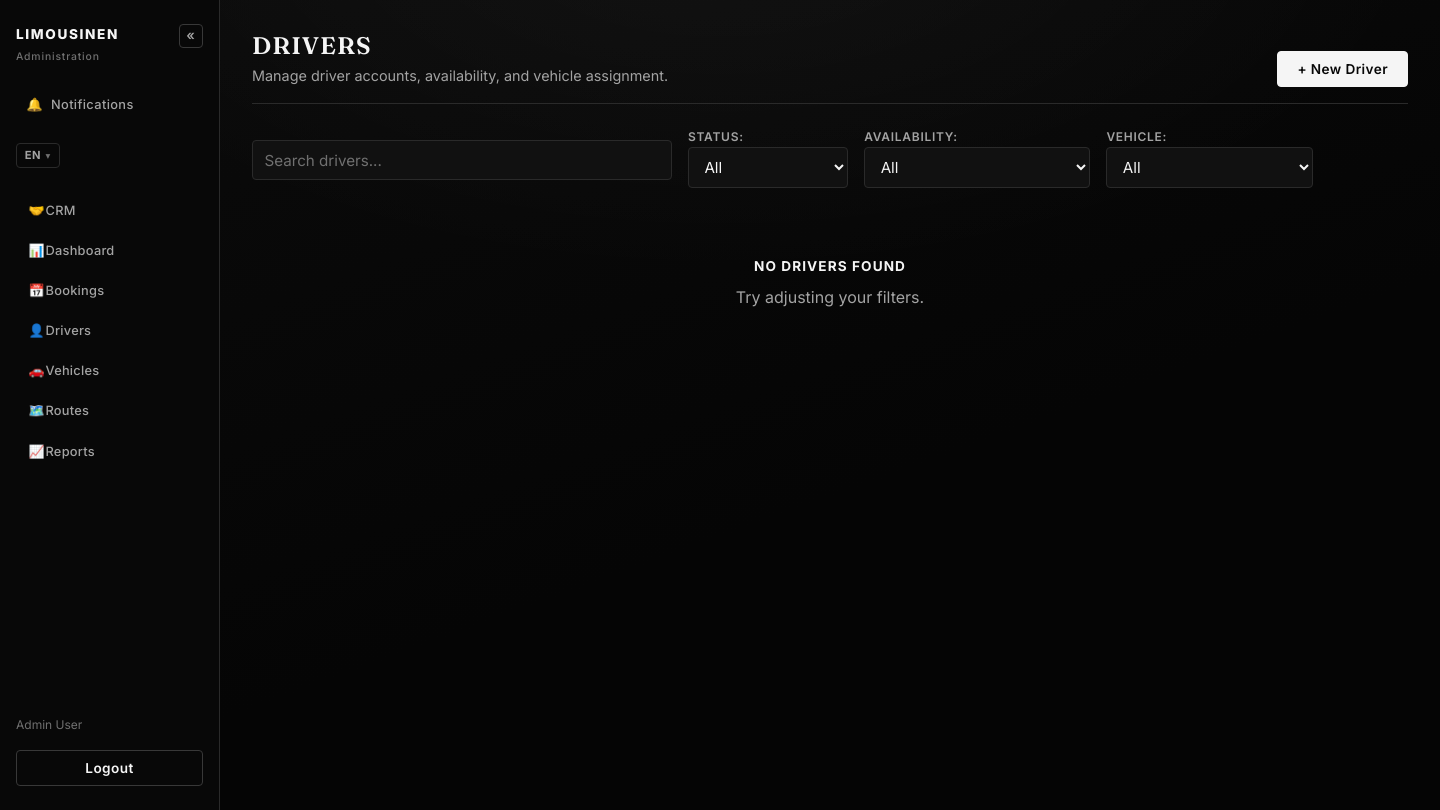
DriversPage › shows the backend's vehicle-conflict error inside the form
Expected: the text "No Drivers Found" is shown, [754,258,906,274]
Click the button "+ New Driver" at (1343, 69), box [1278,52,1408,87]
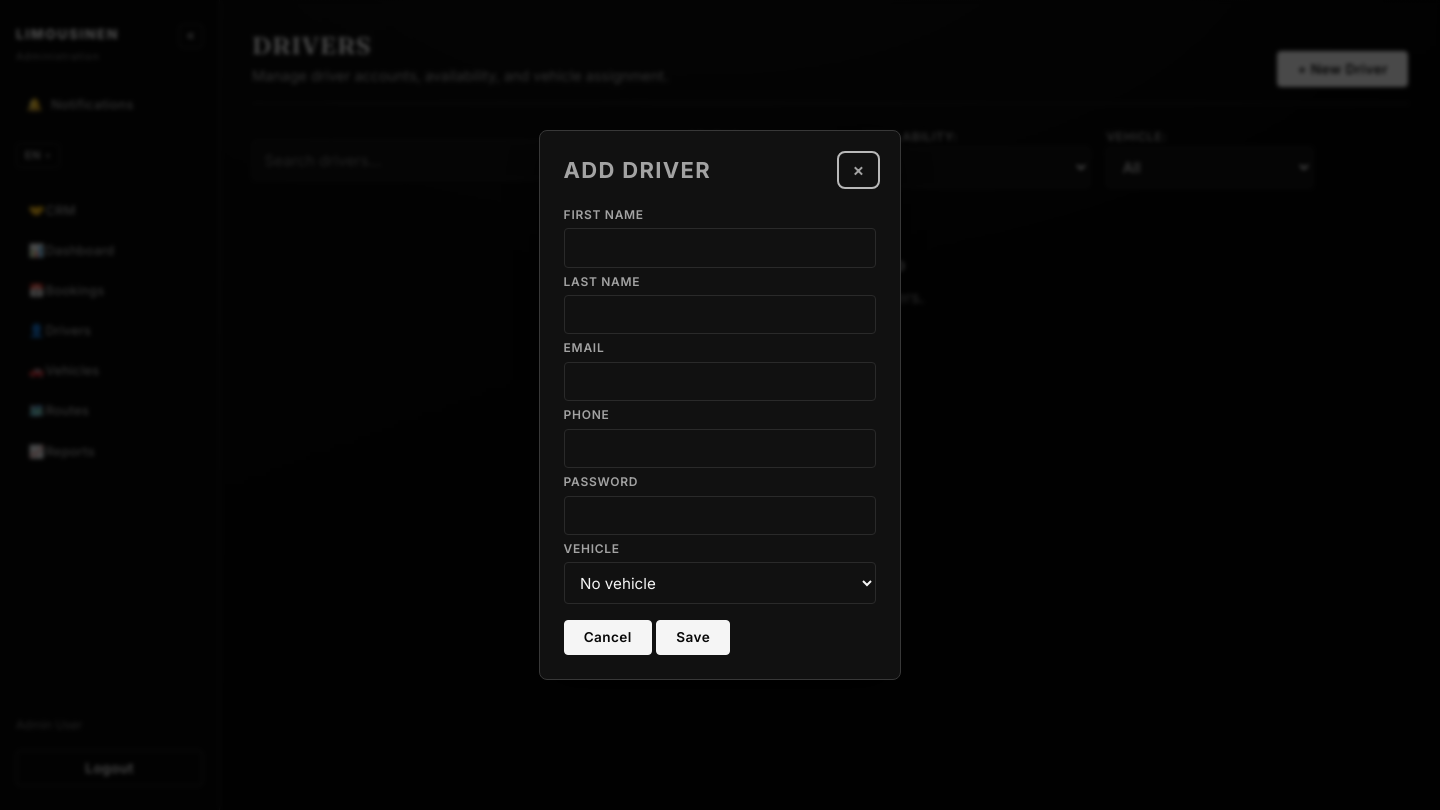
Type "John" into the field labelled "First name" at (720, 248), box [564,228,876,268]
Type "Smith" into the field labelled "Last name" at (720, 315), box [564,295,876,334]
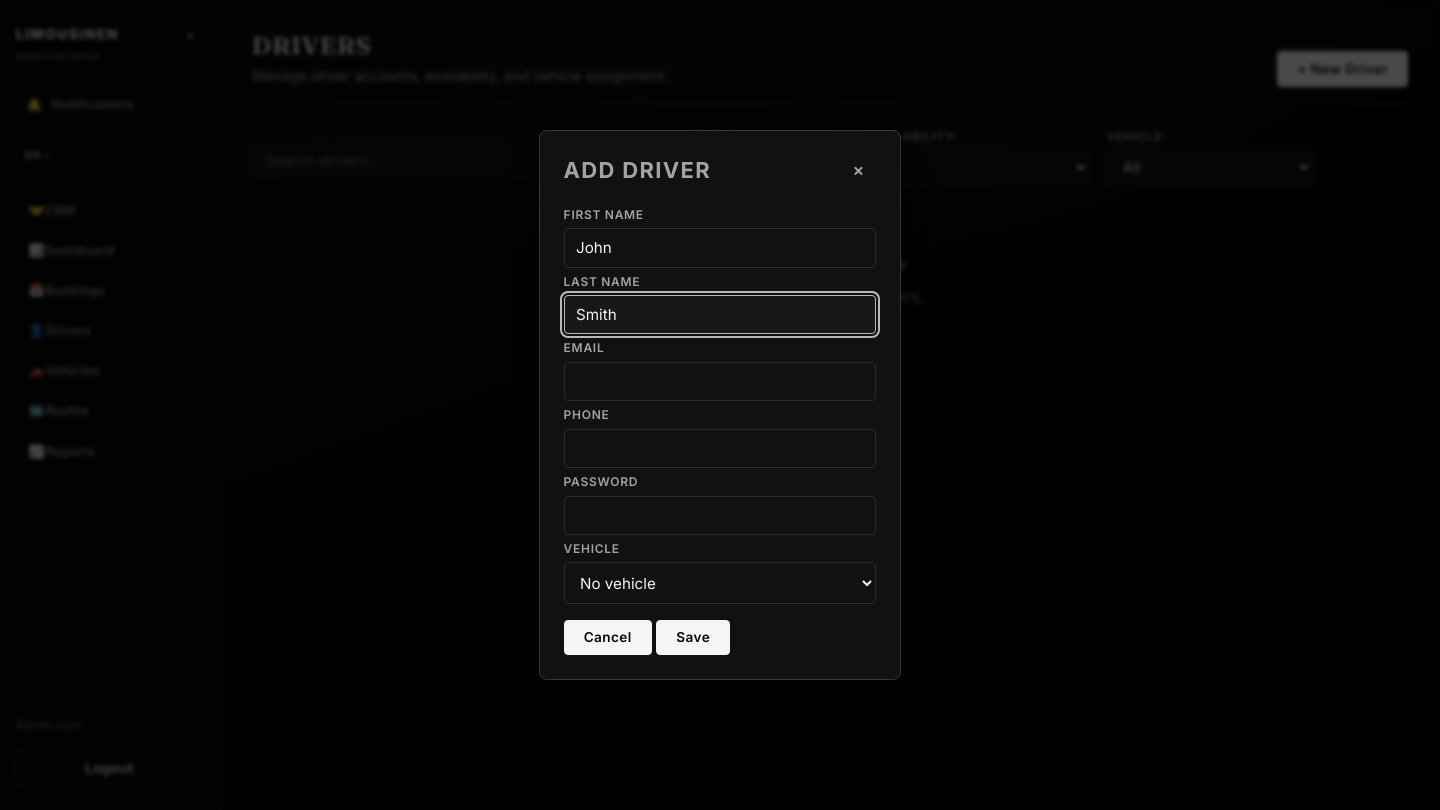
Type "john.smith@example.com" into the field labelled "Email" at (720, 382), box [564,362,876,401]
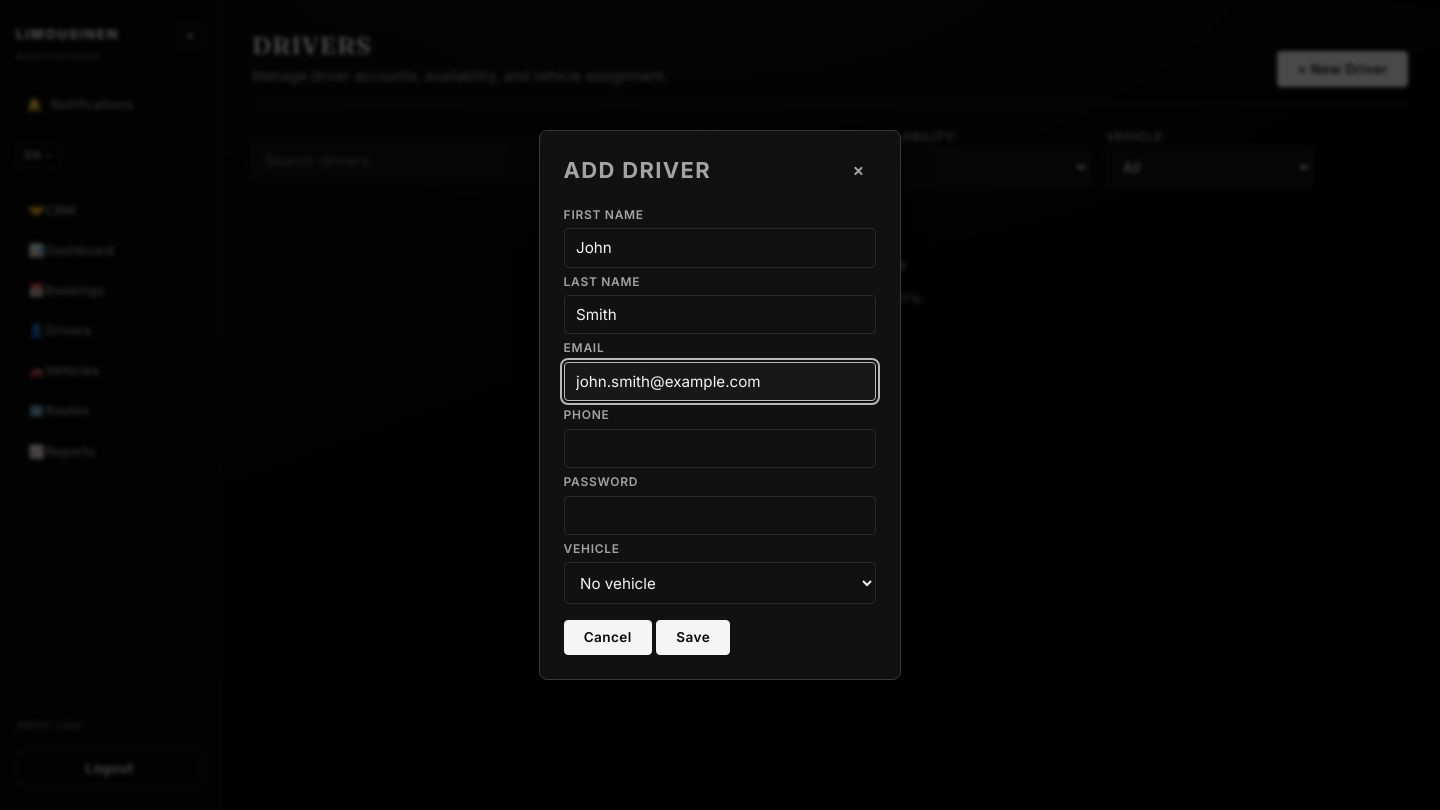
Type "+41791234567" into the field labelled "Phone" at (720, 448), box [564,429,876,468]
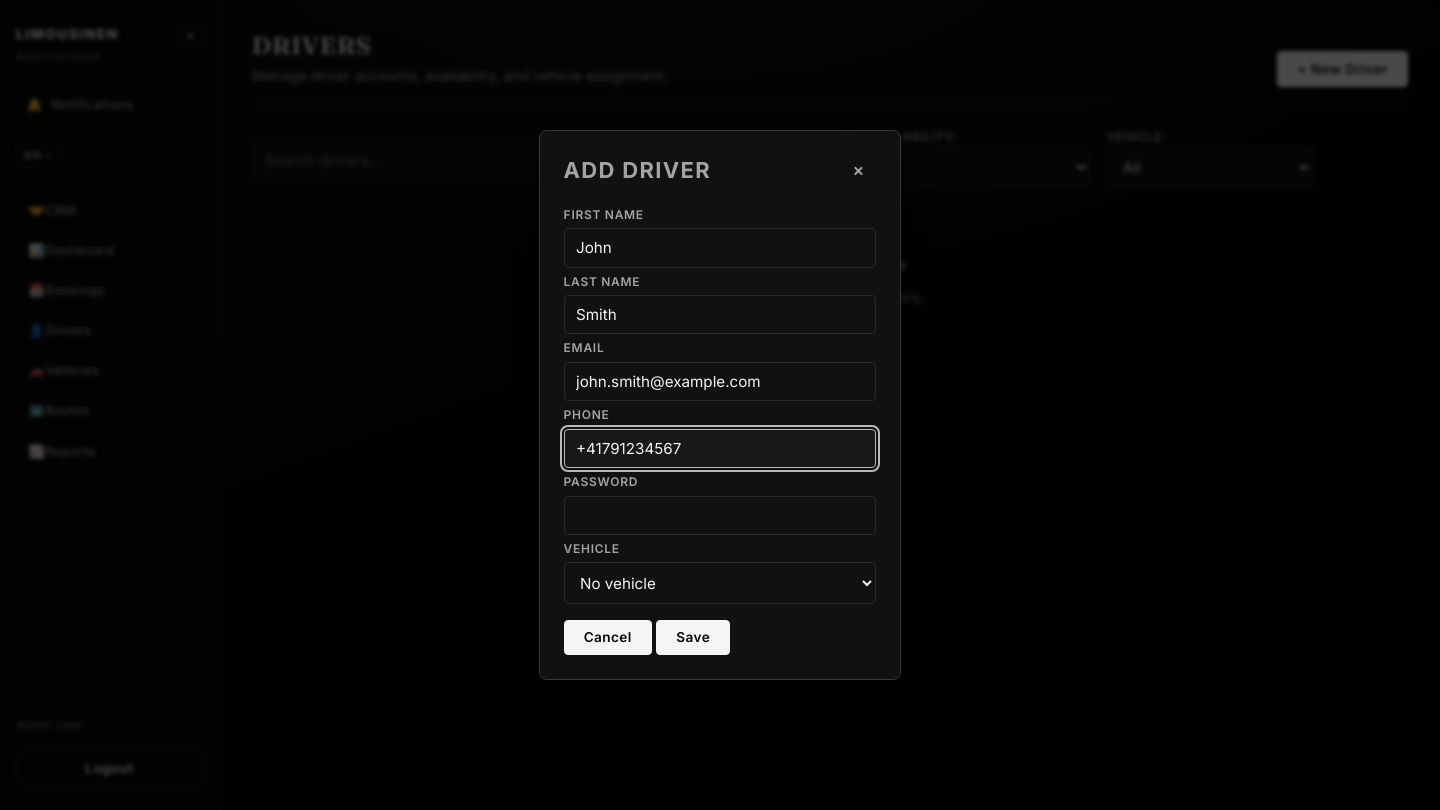
Type "Test#Passw0rd!" into the password field labelled "Password" at (720, 515), box [564,496,876,535]
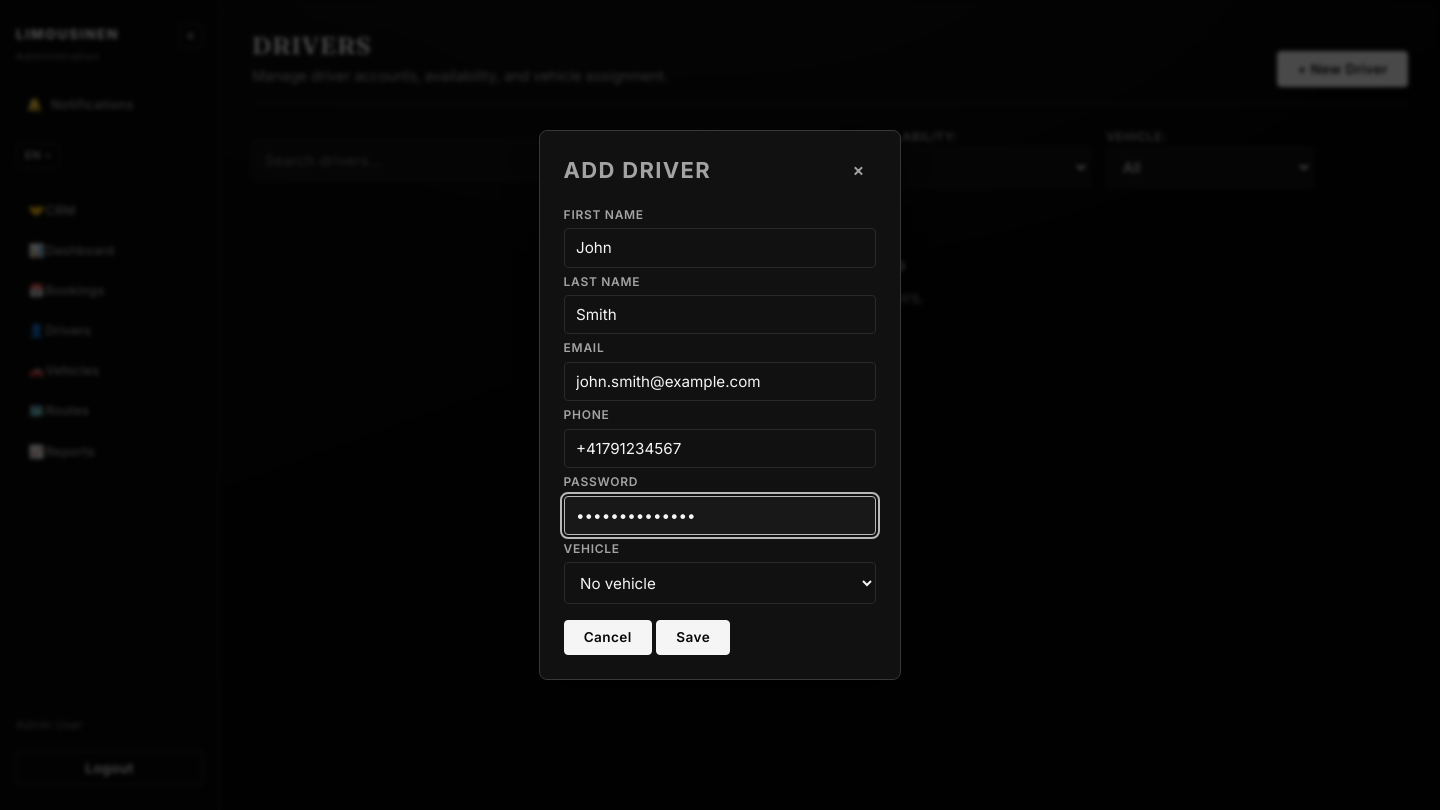
Click the button "Save" at (693, 637), box [656,620,730,655]
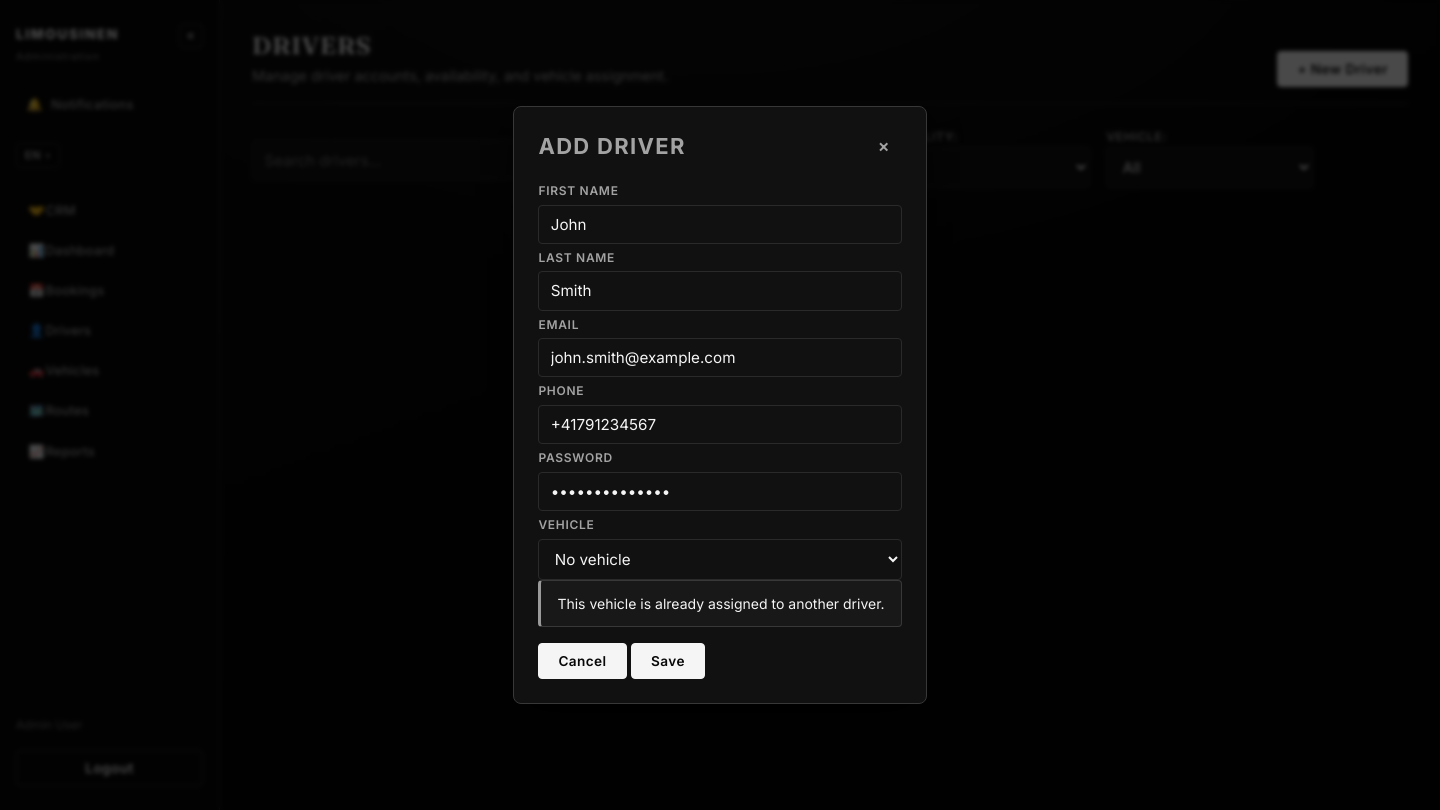
Now the text "This vehicle is already assigned to another driver." is shown, box [538,580,902,628]
